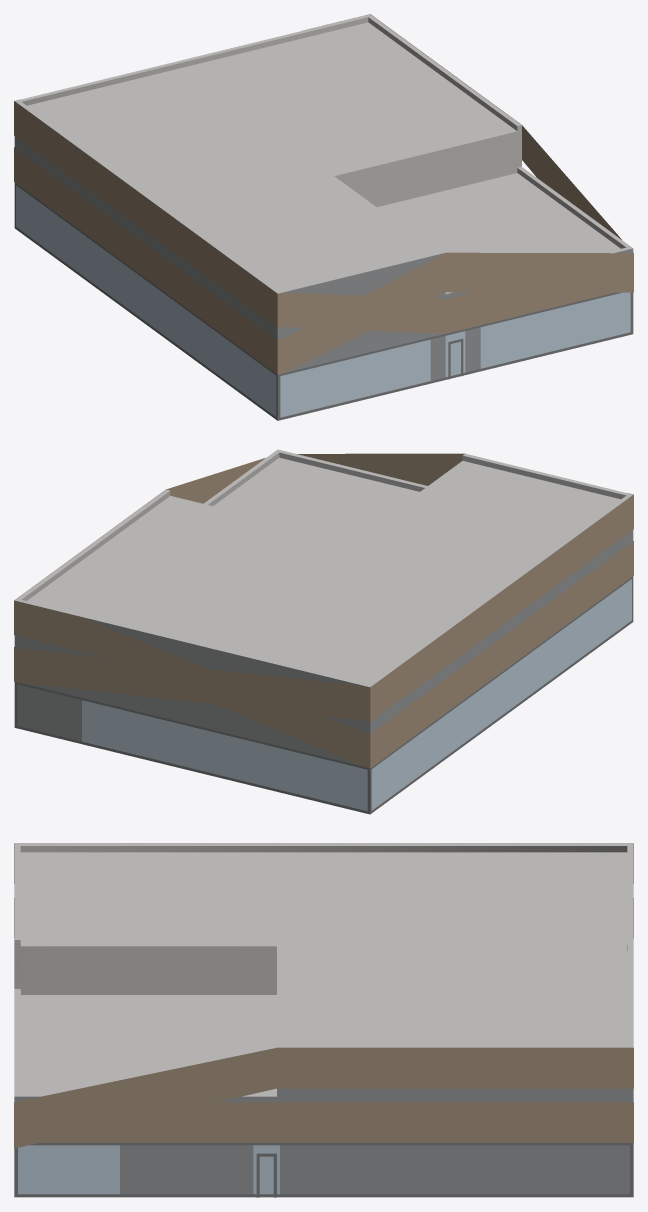
The model's file is omskheartpadellod.glb.
The picture shows the model from 3 angles, top to bottom: view 1: azimuth 30°, elevation 25°; view 2: azimuth 150°, elevation 25°; view 3: azimuth 270°, elevation 25°; orthographic projection. The views are drawn at different scales.
Visible parts, largest first — view 1: omskheartpadellod; view 2: omskheartpadellod; view 3: omskheartpadellod.
Boxes of the visible parts, <box> form: omskheartpadellod: <box>14,14,633,420</box>; omskheartpadellod: <box>14,449,633,814</box>; omskheartpadellod: <box>14,843,633,1197</box>.
Size of the model in its own units: 30.9 by 10.54 by 39.59.
1 material, 1 textured.
